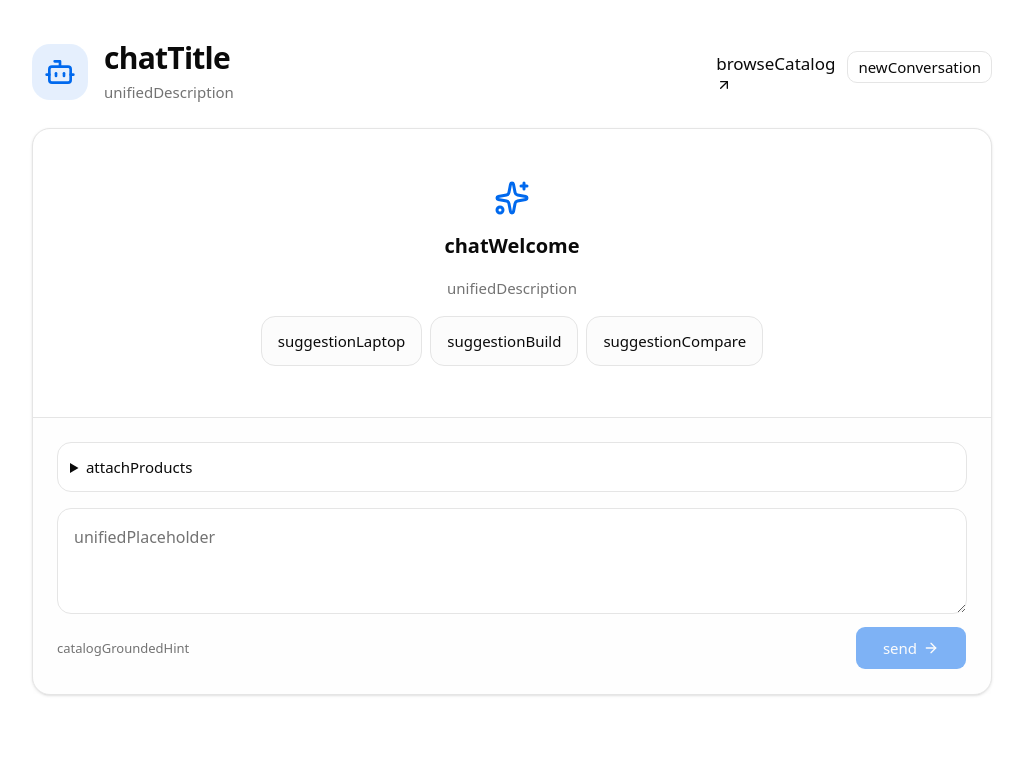
it: offers one chat without workflow navigation and keeps conversation history
Step 1. Type "Laptop cho lập trình" into the text box named "promptLabel" → (512, 561), box [57,508,967,614]
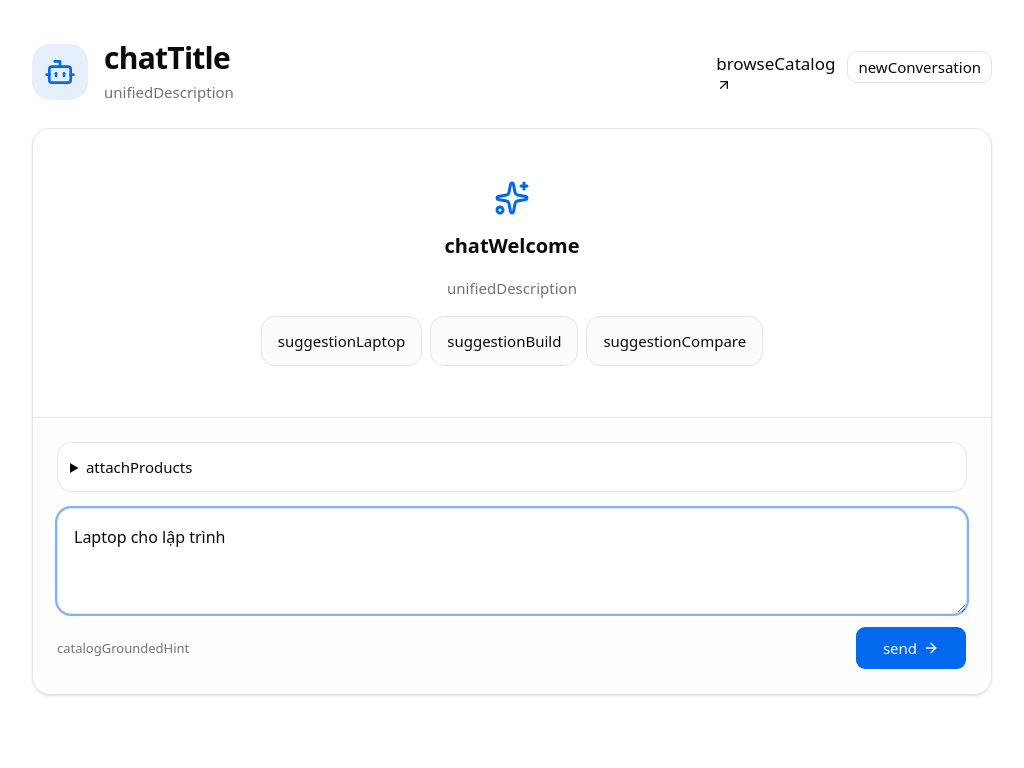
Step 2. Click the button "send" → (911, 648), box [855,626,967,670]
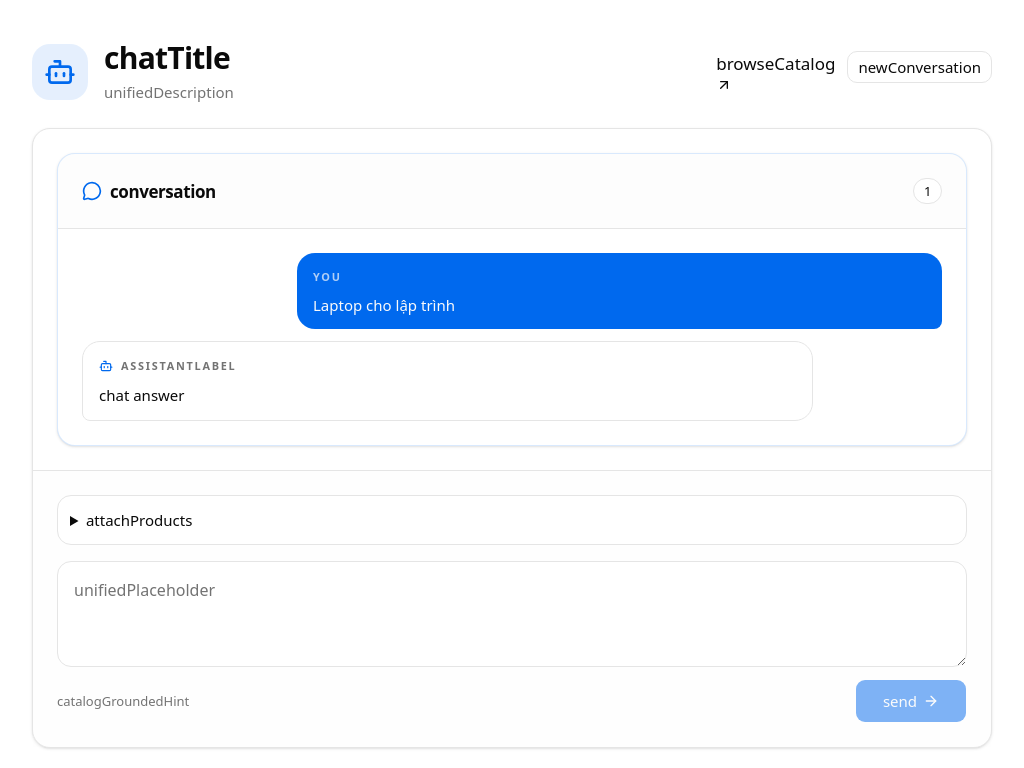
Now the text "chat answer" is shown, box [99,385,184,405]
